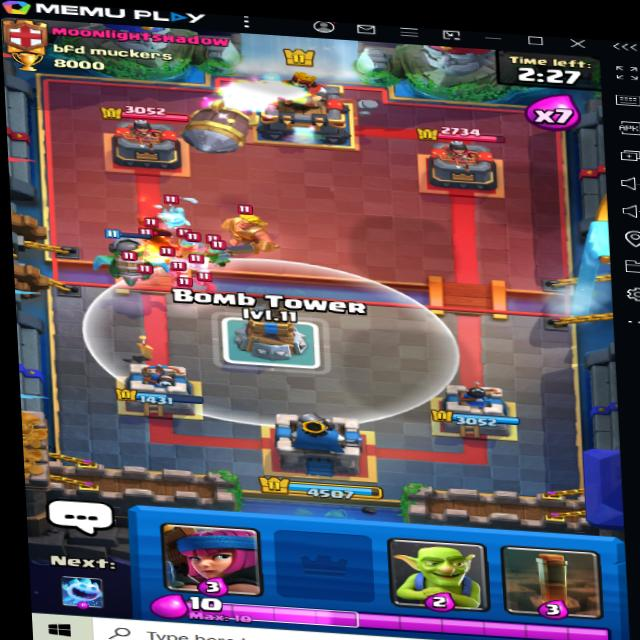bats: (184, 270, 236, 296), (170, 273, 196, 297)
golden-knight: (211, 207, 298, 255)
rocket: (168, 96, 269, 165)
spear-goblin: (203, 240, 234, 269)
